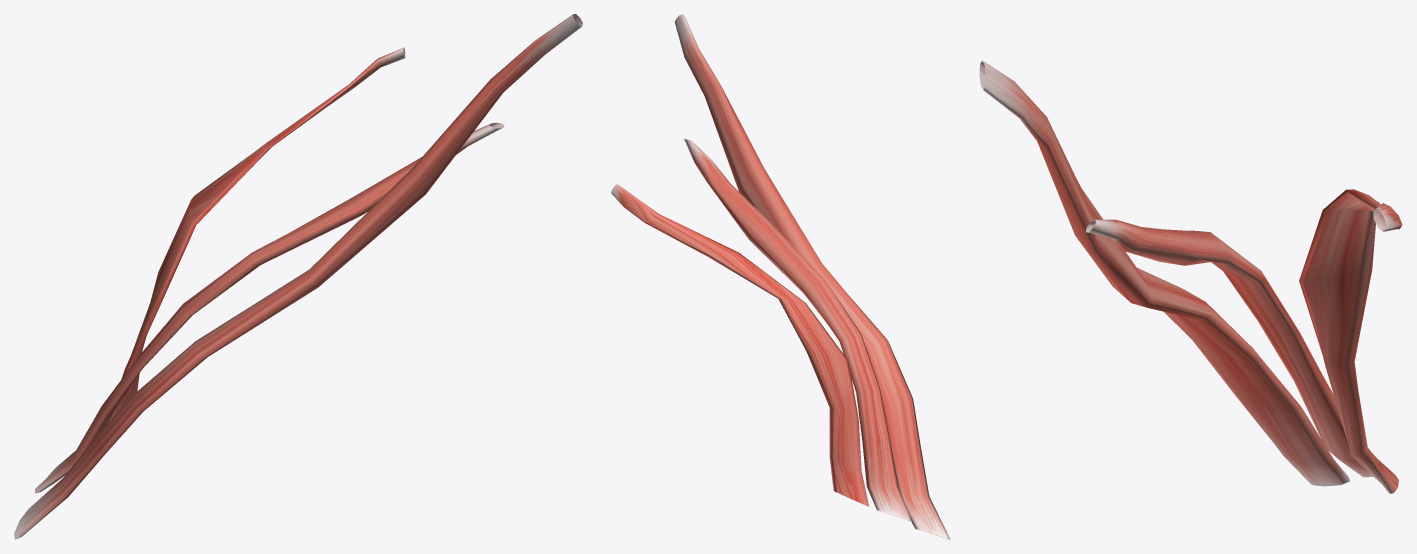
Rendered from Scalenus_Posterior_Muscle_Right.obj.
3 views of the same model, side by side, from view 1: azimuth 30°, elevation 25°; view 2: azimuth 150°, elevation 25°; view 3: azimuth 270°, elevation 25° (orthographic). The views are drawn at different scales.
Parts seen in each view (by area): view 1: Scalenus_Posterior_Muscle_Right_01:Scalenus_Posterior_Muscle_01_, Scalenus_Posterior_Muscle_Right_02:Scalenus_Posterior_Muscle_02_, Scalenus_Posterior_Muscle_Right_03:Scalenus_Posterior_Muscle_03_; view 2: Scalenus_Posterior_Muscle_Right_01:Scalenus_Posterior_Muscle_01_, Scalenus_Posterior_Muscle_Right_02:Scalenus_Posterior_Muscle_02_, Scalenus_Posterior_Muscle_Right_03:Scalenus_Posterior_Muscle_03_; view 3: Scalenus_Posterior_Muscle_Right_01:Scalenus_Posterior_Muscle_01_, Scalenus_Posterior_Muscle_Right_03:Scalenus_Posterior_Muscle_03_, Scalenus_Posterior_Muscle_Right_02:Scalenus_Posterior_Muscle_02_.
Part boxes in pixels (x1,y1,x2,y2): Scalenus_Posterior_Muscle_Right_01:Scalenus_Posterior_Muscle_01_: [14, 14, 582, 539]; Scalenus_Posterior_Muscle_Right_02:Scalenus_Posterior_Muscle_02_: [35, 122, 504, 493]; Scalenus_Posterior_Muscle_Right_03:Scalenus_Posterior_Muscle_03_: [107, 47, 405, 423]; Scalenus_Posterior_Muscle_Right_01:Scalenus_Posterior_Muscle_01_: [674, 14, 950, 539]; Scalenus_Posterior_Muscle_Right_02:Scalenus_Posterior_Muscle_02_: [683, 139, 911, 521]; Scalenus_Posterior_Muscle_Right_03:Scalenus_Posterior_Muscle_03_: [611, 184, 869, 506]; Scalenus_Posterior_Muscle_Right_01:Scalenus_Posterior_Muscle_01_: [979, 60, 1349, 486]; Scalenus_Posterior_Muscle_Right_03:Scalenus_Posterior_Muscle_03_: [1299, 189, 1402, 493]; Scalenus_Posterior_Muscle_Right_02:Scalenus_Posterior_Muscle_02_: [1086, 219, 1373, 477].
Size of the model in its own units: 0.8075 by 0.8222 by 0.414.
